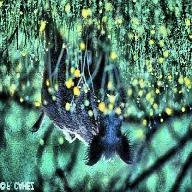boar: (30, 21, 133, 171)
